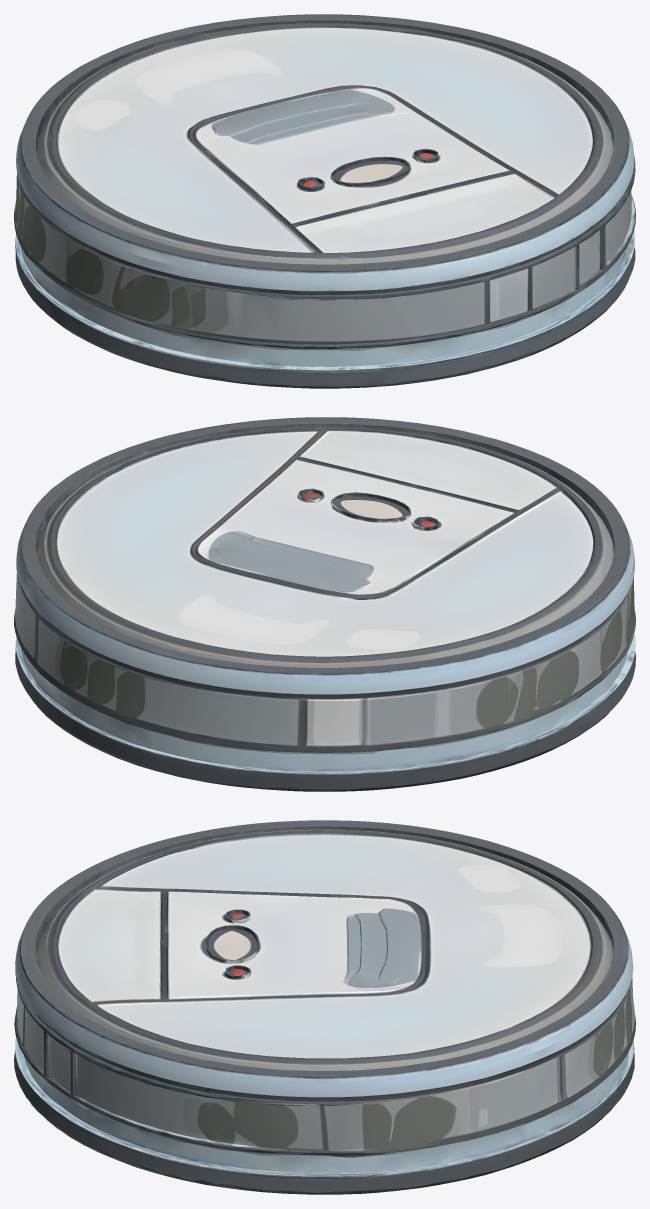
Rendered from RobotVacuum.glb.
3 renders of one model, top to bottom at view 1: azimuth 30°, elevation 25°; view 2: azimuth 150°, elevation 25°; view 3: azimuth 270°, elevation 25°, orthographic.
Visible parts, largest first — view 1: model; view 2: model; view 3: model.
Boxes of the visible parts, <box> form: model: <box>14,14,635,388</box>; model: <box>14,417,635,791</box>; model: <box>14,820,635,1194</box>.
Size of the model in its own units: 1.85 by 0.4088 by 1.86.
Materials: 1 (1 with a texture image).
